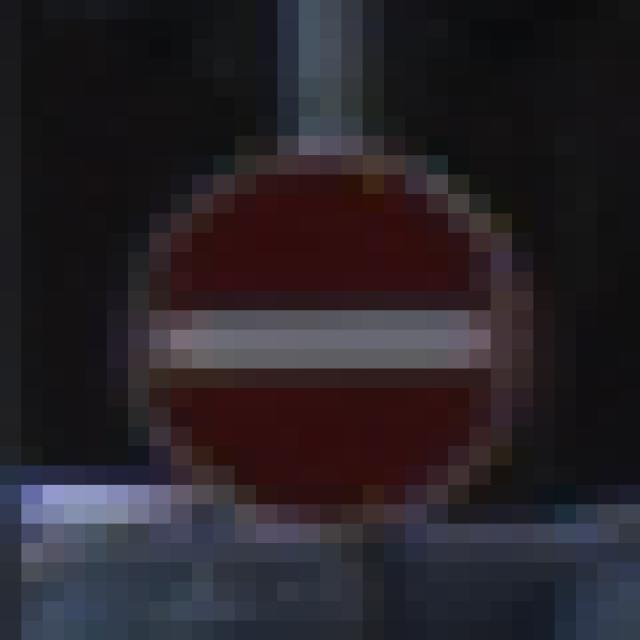No Entry: (108, 117, 534, 544)
